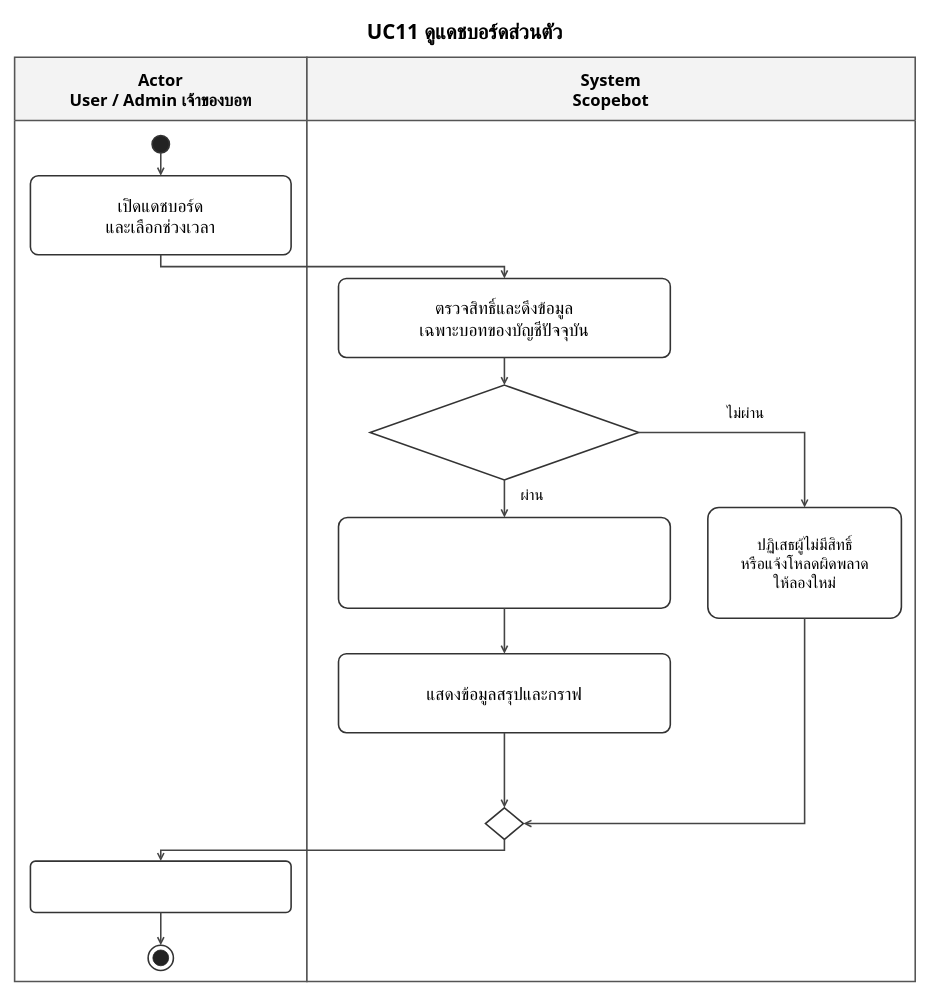
This 929x995 diagram has some shape labels left out. Each missing label, with the centre of its shape:
คำนวณจำนวนและสัดส่วน ไม่มีข้อมูลแสดงศูนย์หรือสถานะว่าง: pixel 504 562
ตรวจสอบผลการดำเนินการ: pixel 160 886
โหลดข้อมูลสำเร็จ: pixel 504 432
